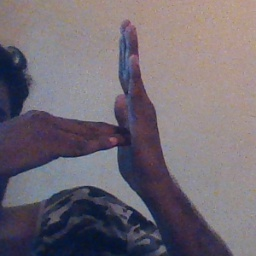Z: (49, 18, 162, 196)
